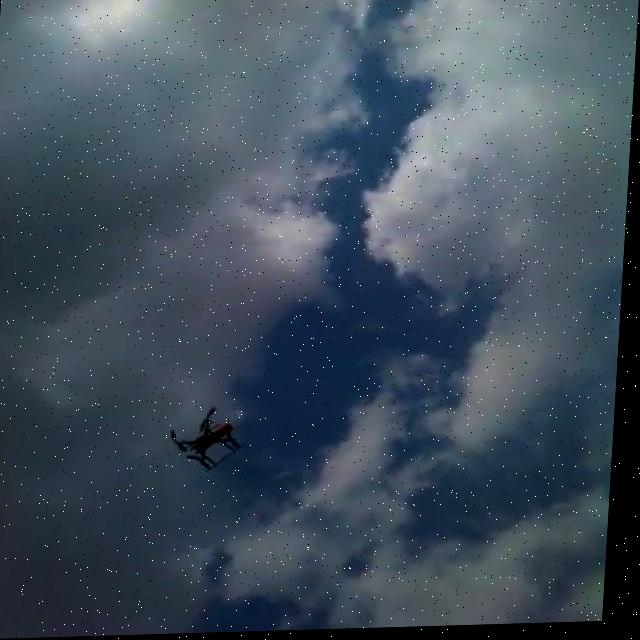drone: (166, 404, 252, 476)
